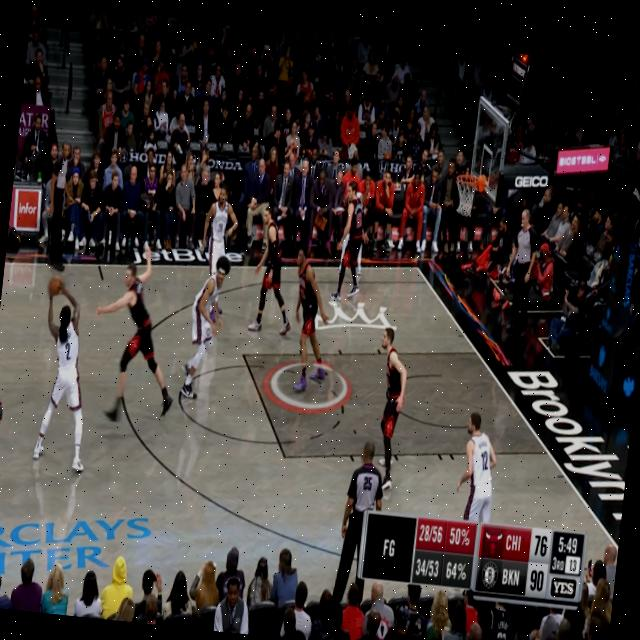no foul: (13, 236, 199, 505), (232, 205, 365, 414)
